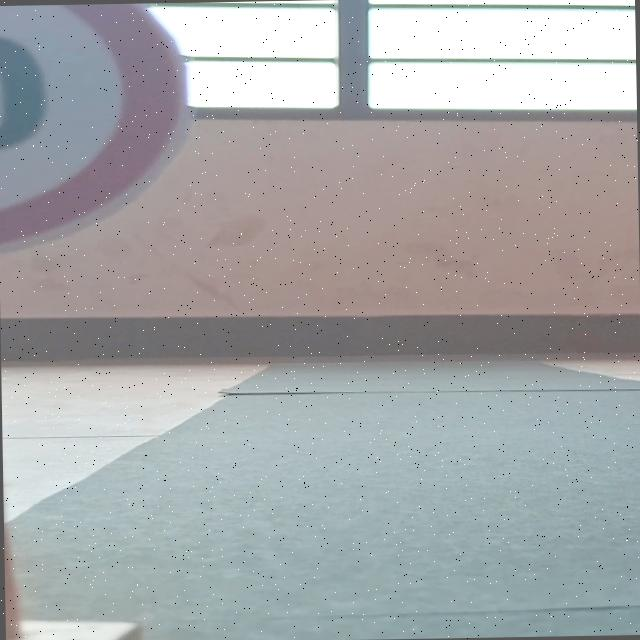Reject: (0, 2, 209, 267)
